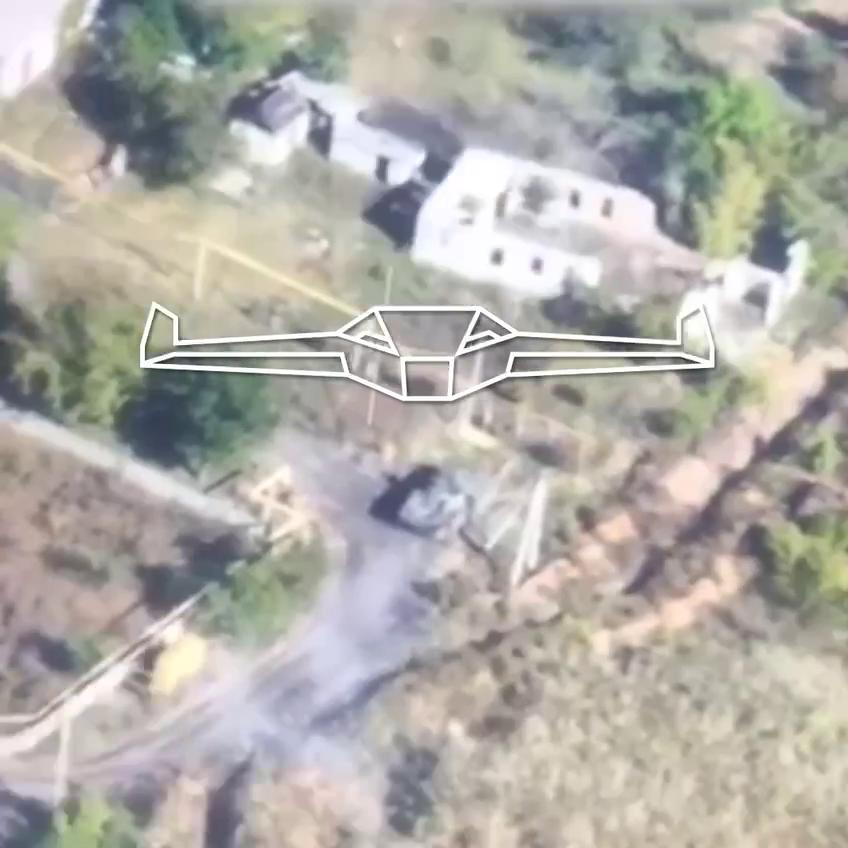tank: (392, 449, 503, 552)
